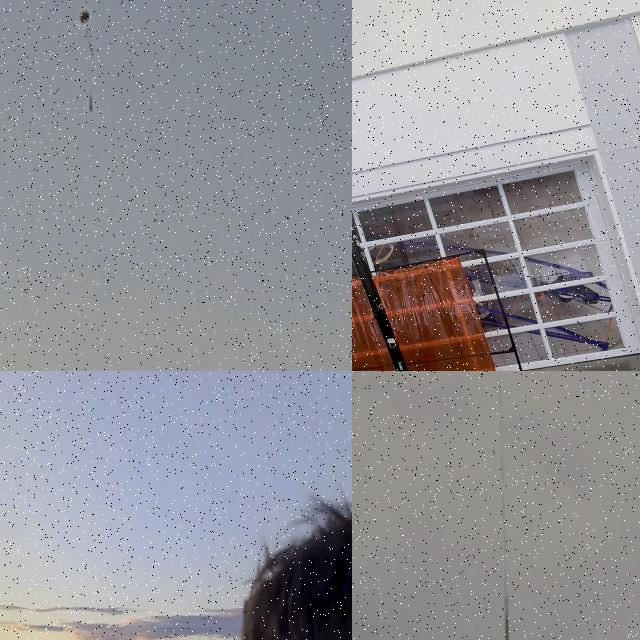Rocket: (352, 223, 409, 371), (503, 609, 513, 640), (89, 90, 92, 114)
